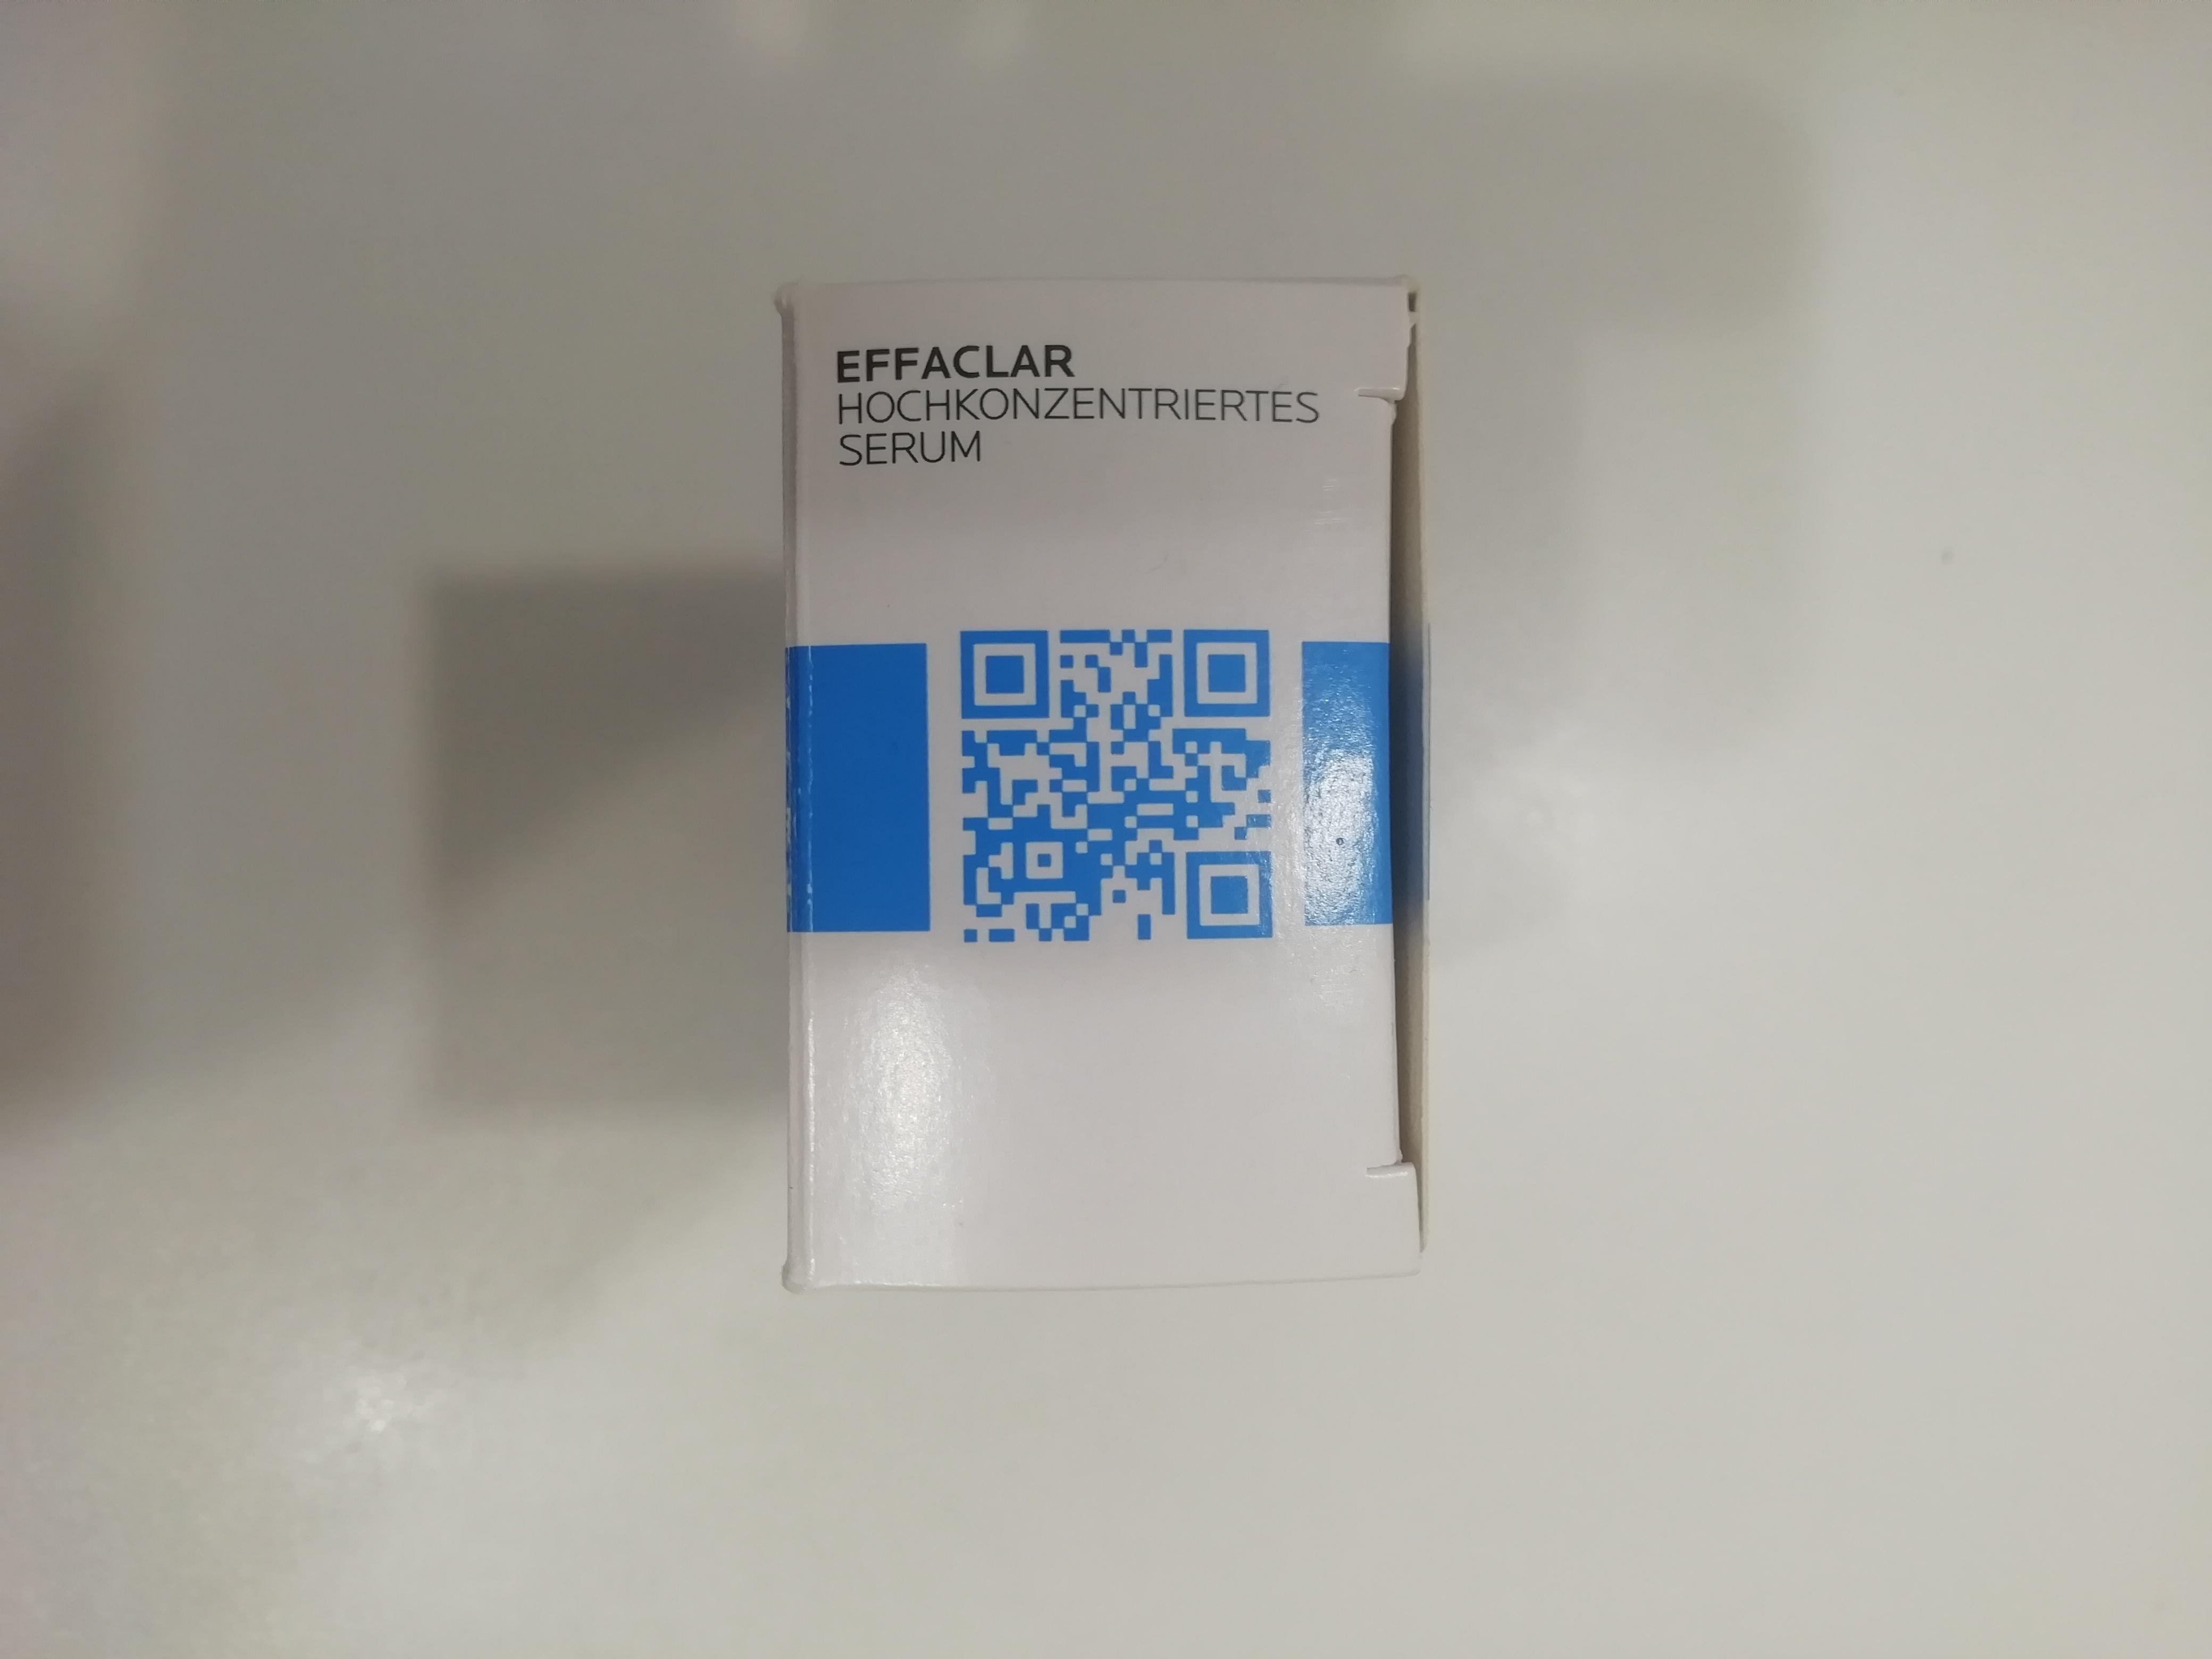qrcode: (958, 626, 1280, 946)
